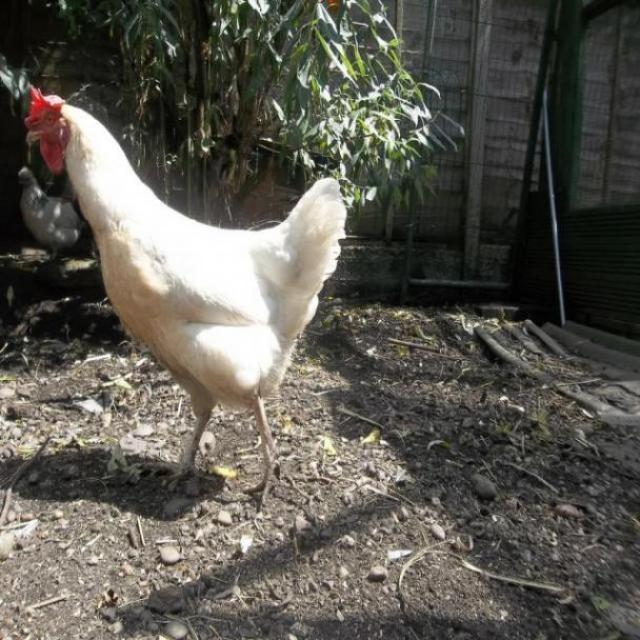Chicken: (23, 85, 346, 508)
